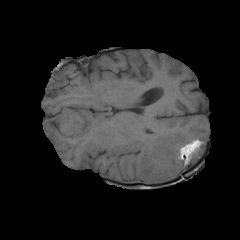glioma: (43, 108, 205, 183)
